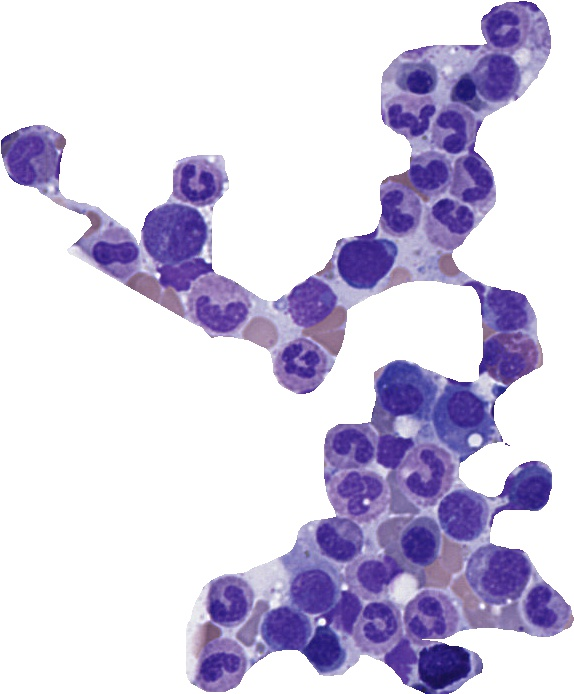objectness: (382, 365, 432, 415), (435, 386, 485, 436), (521, 580, 571, 630), (478, 287, 528, 337), (436, 490, 486, 540), (450, 154, 500, 204), (173, 159, 223, 209), (371, 186, 421, 236), (431, 106, 481, 156), (194, 279, 244, 329), (275, 338, 325, 388), (206, 582, 256, 632), (407, 593, 457, 643), (324, 418, 374, 468), (424, 194, 474, 244), (382, 90, 432, 140), (195, 639, 245, 689), (405, 450, 455, 500), (479, 4, 529, 54), (337, 473, 387, 523), (357, 598, 407, 648), (471, 53, 521, 103), (469, 544, 519, 594), (150, 209, 200, 259), (486, 329, 536, 379), (405, 149, 455, 199), (1, 132, 51, 182), (314, 509, 364, 559), (339, 239, 389, 289), (369, 425, 419, 475), (284, 278, 334, 328), (292, 561, 342, 611), (156, 248, 206, 298), (344, 548, 394, 598), (261, 605, 311, 655), (398, 512, 448, 562), (299, 625, 349, 675), (391, 52, 441, 102), (442, 68, 492, 118)
